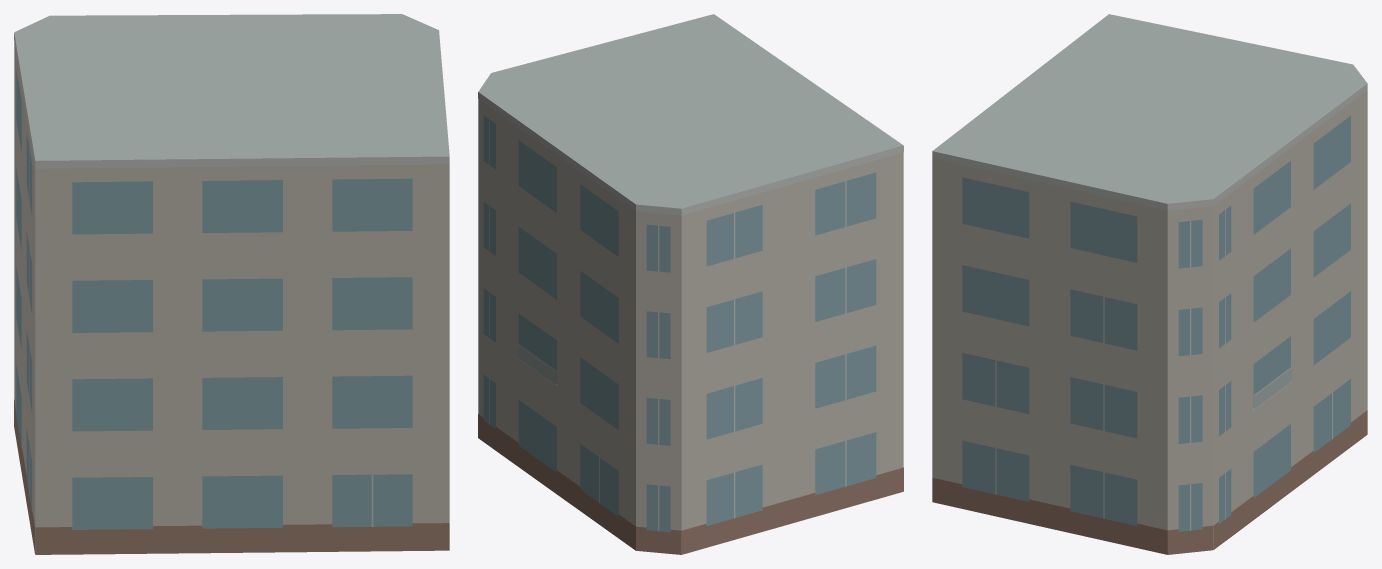
File: survey-upis-32682614.glb
3 views of the same model, side by side, from view 1: azimuth 30°, elevation 25°; view 2: azimuth 150°, elevation 25°; view 3: azimuth 270°, elevation 25° (orthographic). The views are drawn at different scales.
Visible parts, largest first — view 1: survey-upis-32682614.tmp; view 2: survey-upis-32682614.tmp; view 3: survey-upis-32682614.tmp.
Part boxes in pixels (x1,y1,x2,y2): survey-upis-32682614.tmp: [14, 14, 449, 554]; survey-upis-32682614.tmp: [478, 14, 903, 554]; survey-upis-32682614.tmp: [932, 14, 1367, 554].
Bounding box in the file's own units: 14.39 × 12.4 × 13.95.
